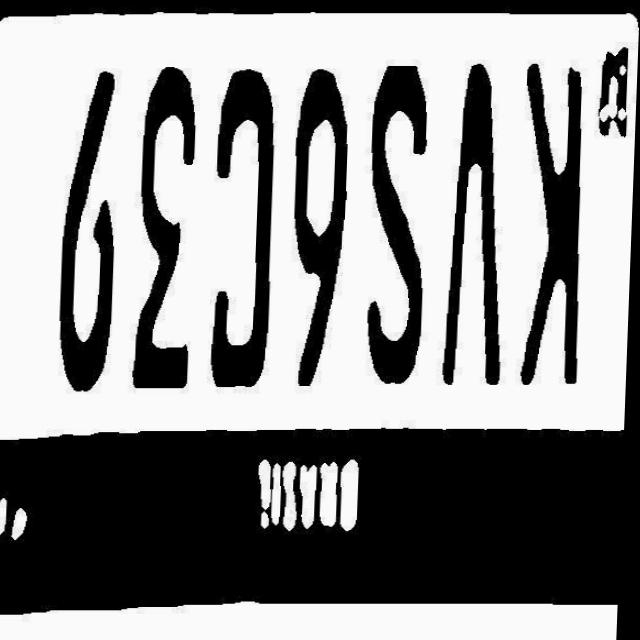3: (129, 69, 211, 394)
6: (285, 75, 371, 412)
9: (47, 65, 135, 402)
c: (206, 71, 287, 402)
k: (507, 59, 601, 397)
s: (358, 62, 447, 394)
v: (444, 61, 518, 402)
